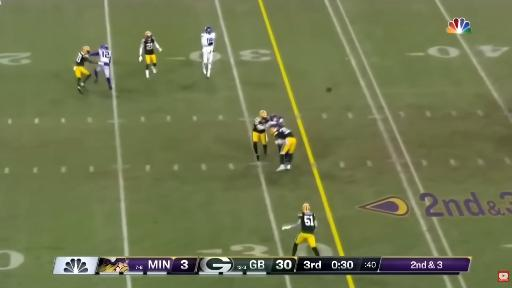Helmet: (300, 202, 311, 213), (144, 31, 154, 42), (258, 110, 268, 120), (203, 25, 212, 35), (81, 46, 91, 54), (271, 127, 278, 134), (101, 44, 110, 49)
Jersey: (90, 49, 111, 66), (299, 212, 315, 234), (201, 33, 215, 51), (253, 117, 268, 133), (274, 127, 293, 139), (142, 38, 155, 55), (99, 49, 111, 66), (267, 115, 284, 127), (76, 52, 88, 66)
Player: (282, 204, 319, 256), (270, 127, 296, 171), (139, 31, 161, 78), (74, 47, 96, 93), (90, 45, 111, 90), (252, 111, 268, 161), (201, 27, 215, 77), (266, 114, 284, 128), (267, 115, 284, 129)
